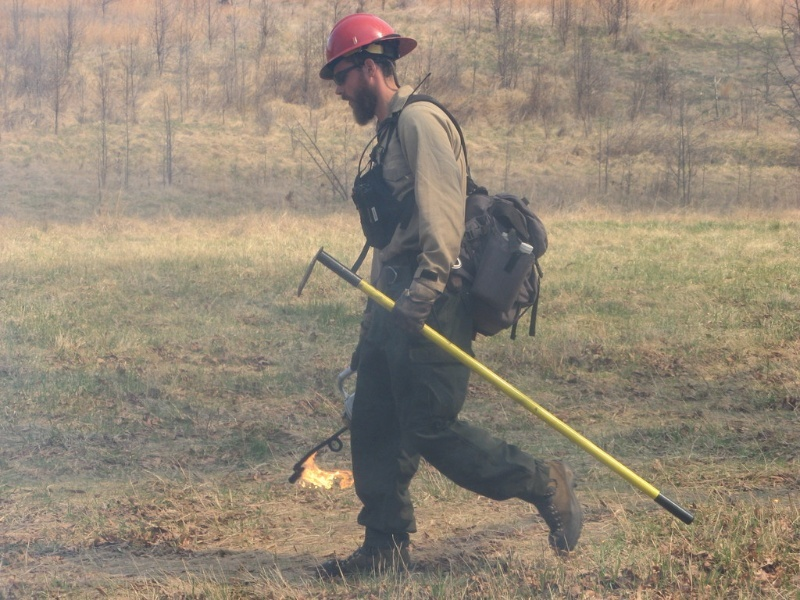baret: (318, 10, 418, 78)
